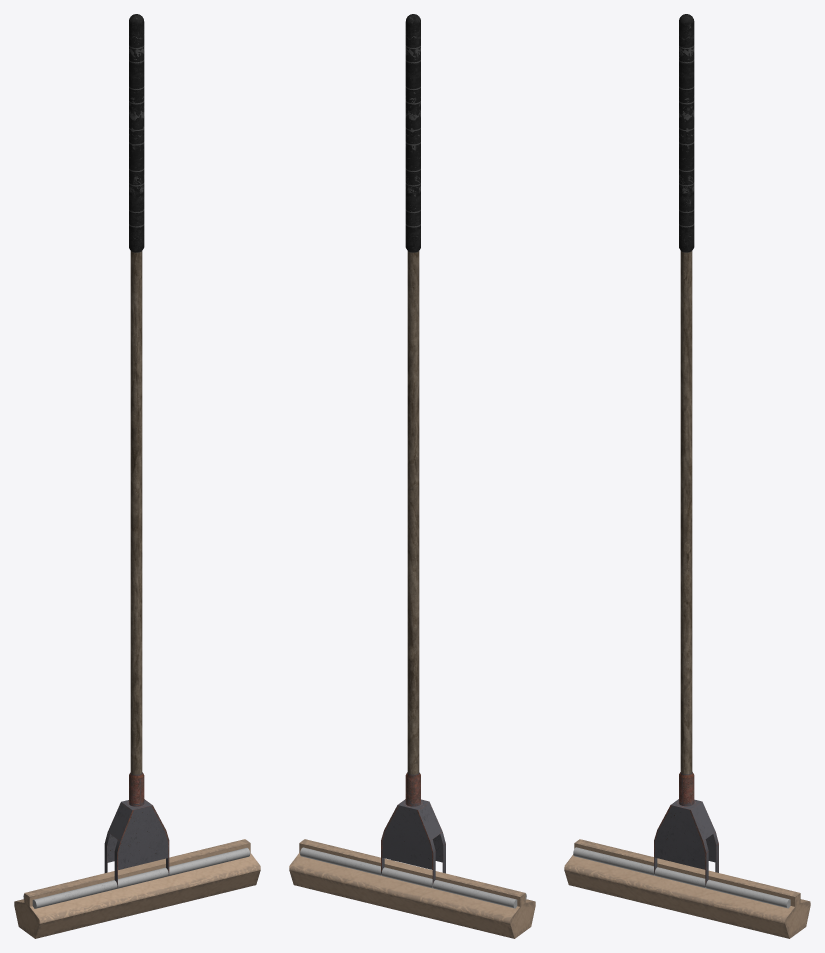
The picture shows the model from 3 angles, left to right: view 1: azimuth 30°, elevation 25°; view 2: azimuth 150°, elevation 25°; view 3: azimuth 330°, elevation 25°; orthographic projection.
Visible parts, largest first — view 1: Mop_LP; view 2: Mop_LP; view 3: Mop_LP.
Boxes of the visible parts, <box> form: Mop_LP: <box>14,14,260,938</box>; Mop_LP: <box>289,14,535,938</box>; Mop_LP: <box>564,14,810,938</box>.
Size of the model in its own units: 98.71 by 380 by 19.78.
Materials: 1 (1 with a texture image).
